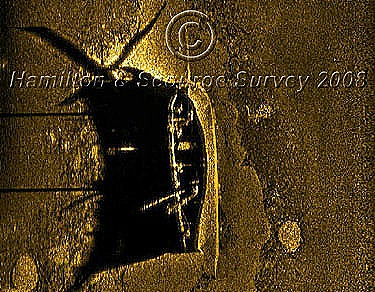ship: (137, 22, 220, 281)
